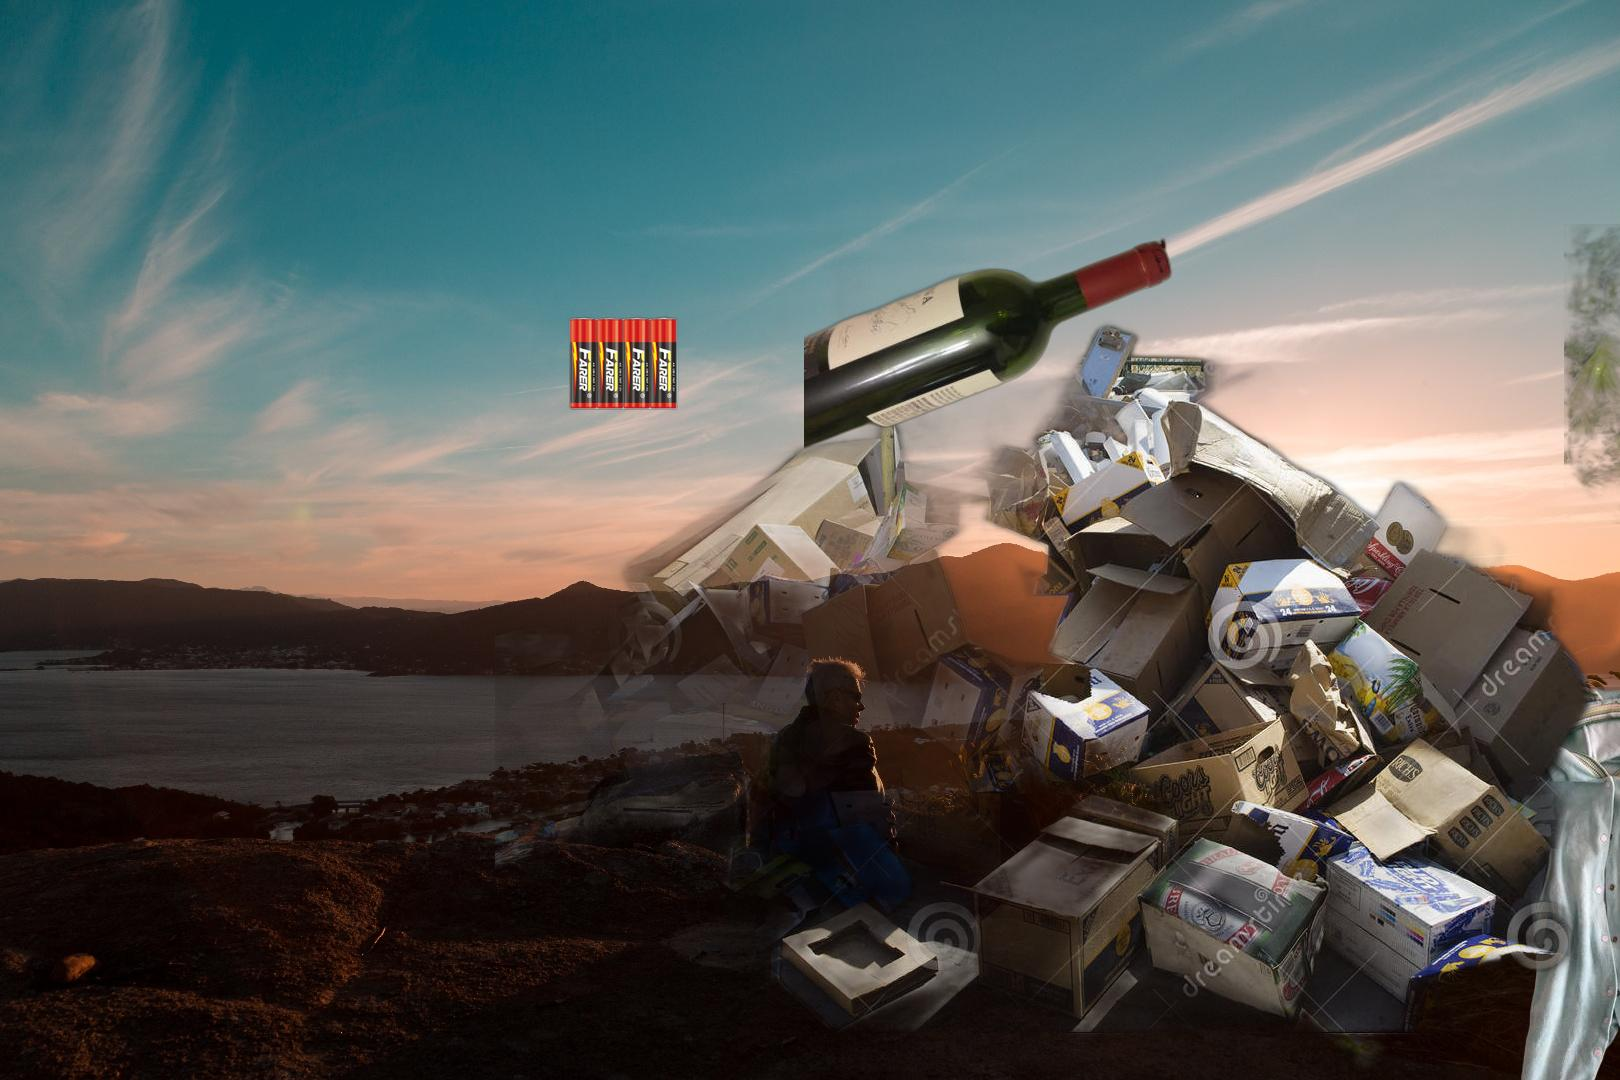battery: (553, 290, 681, 413)
biological: (1565, 224, 1620, 524)
clothes: (1416, 687, 1620, 1080)
glass: (804, 236, 1176, 452)
trashbox-cardboard: (495, 231, 1620, 1080)
